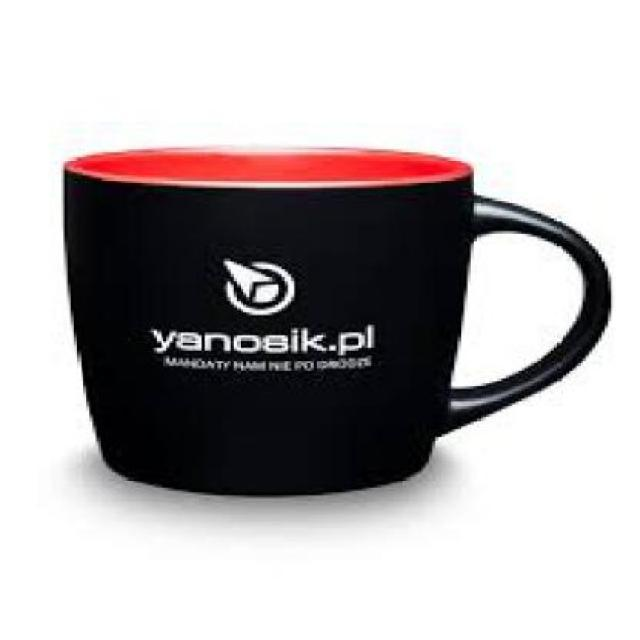cup: (45, 135, 630, 514)
